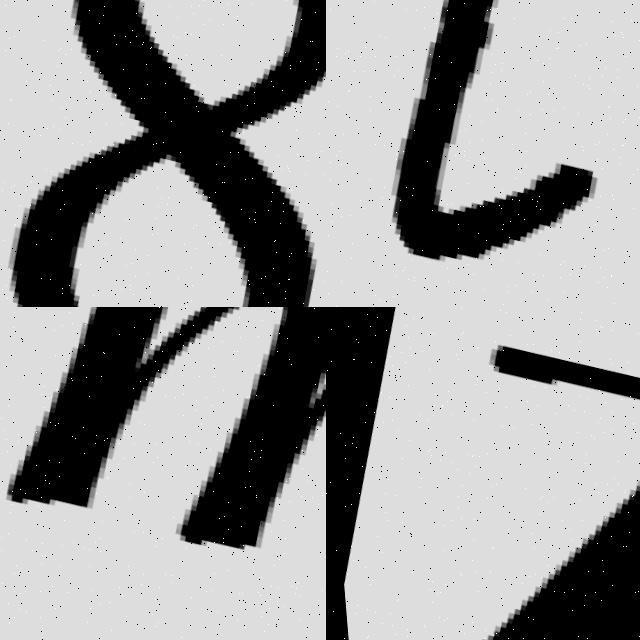8: (0, 0, 326, 307)
I: (326, 0, 640, 307)
M: (0, 307, 326, 632)
Z: (334, 309, 640, 640)
